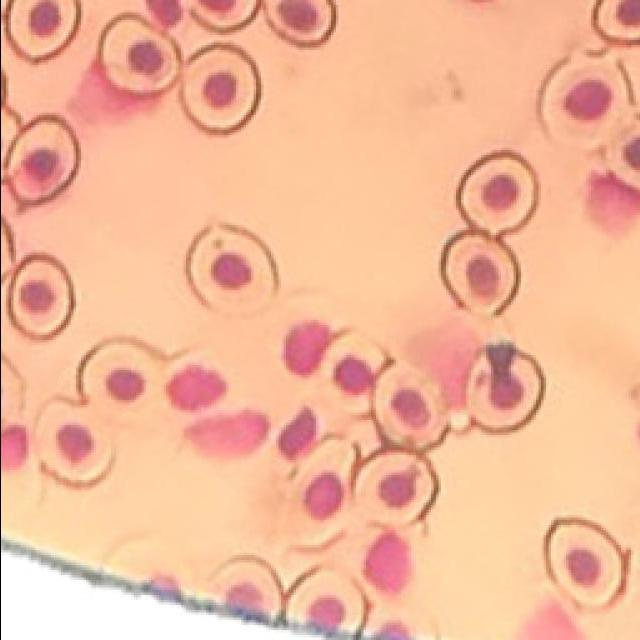RBC: (539, 50, 629, 149), (186, 224, 278, 312), (288, 438, 359, 546), (545, 519, 629, 608), (465, 342, 544, 432), (181, 45, 260, 134), (371, 361, 448, 450), (458, 152, 538, 236), (7, 116, 80, 208), (35, 400, 112, 486), (78, 339, 168, 412), (441, 232, 519, 316), (352, 450, 438, 525), (100, 15, 180, 94), (320, 331, 388, 415), (8, 255, 74, 340), (284, 568, 365, 632), (6, 0, 80, 62), (208, 558, 282, 619), (263, 0, 336, 48), (602, 121, 640, 189), (189, 0, 260, 32), (594, 0, 640, 42)
WBC: (185, 410, 269, 458), (586, 172, 640, 236), (166, 365, 226, 411), (364, 532, 410, 592), (284, 321, 332, 376), (278, 409, 316, 460), (0, 425, 26, 471), (147, 0, 181, 28)
